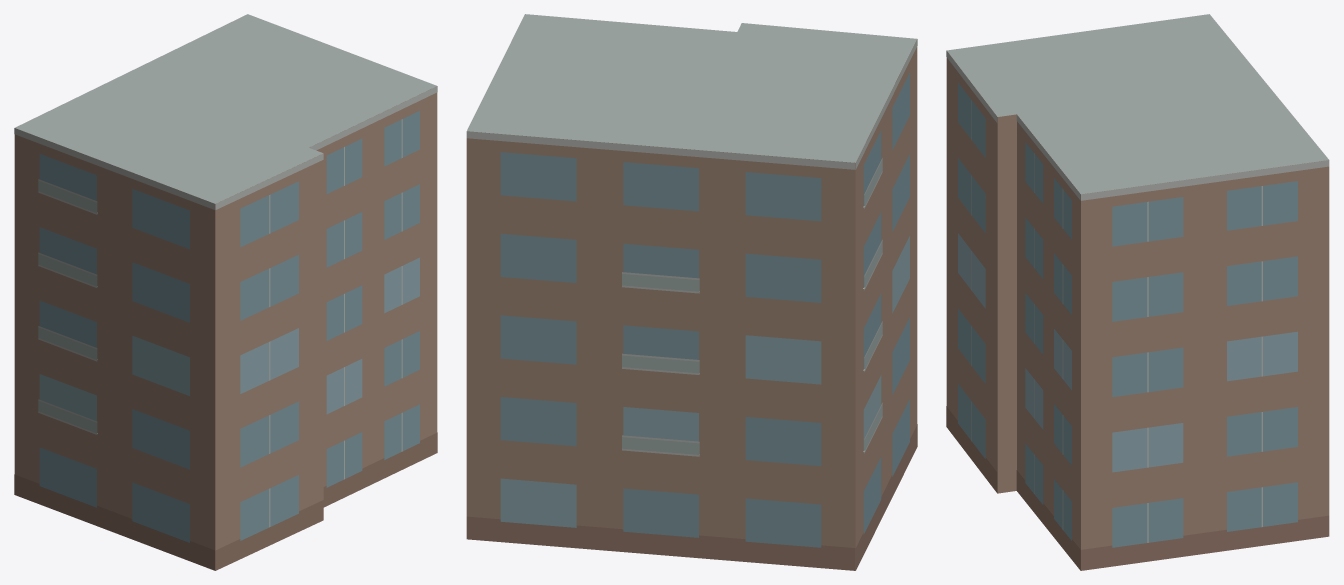
The model's file is survey-upis-32860360.glb.
3 views of the same model, side by side, from view 1: azimuth 30°, elevation 25°; view 2: azimuth 150°, elevation 25°; view 3: azimuth 270°, elevation 25° (orthographic). The views are drawn at different scales.
Visible parts, largest first — view 1: survey-upis-32860360.tmp; view 2: survey-upis-32860360.tmp; view 3: survey-upis-32860360.tmp.
Part boxes in pixels (<box>): survey-upis-32860360.tmp: <box>14,14,437,570</box>; survey-upis-32860360.tmp: <box>466,14,917,570</box>; survey-upis-32860360.tmp: <box>946,14,1329,570</box>.
Bounding box in the file's own units: 14.55 × 14.15 × 13.05.
